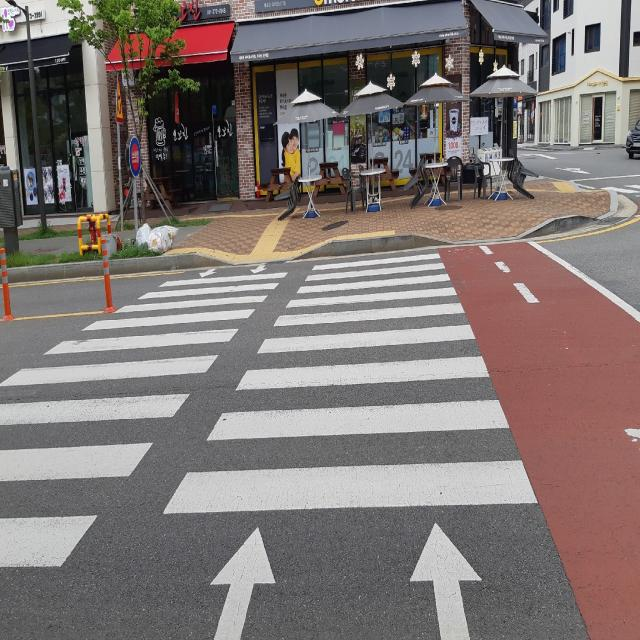횡단보도: (0, 252, 537, 639)
